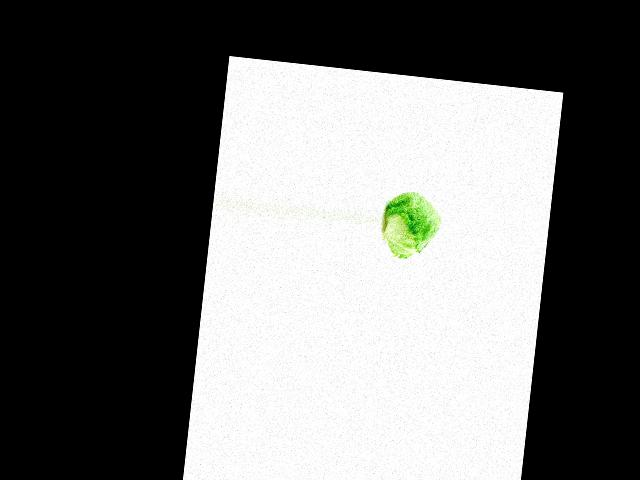lettuce: (380, 187, 445, 262)
